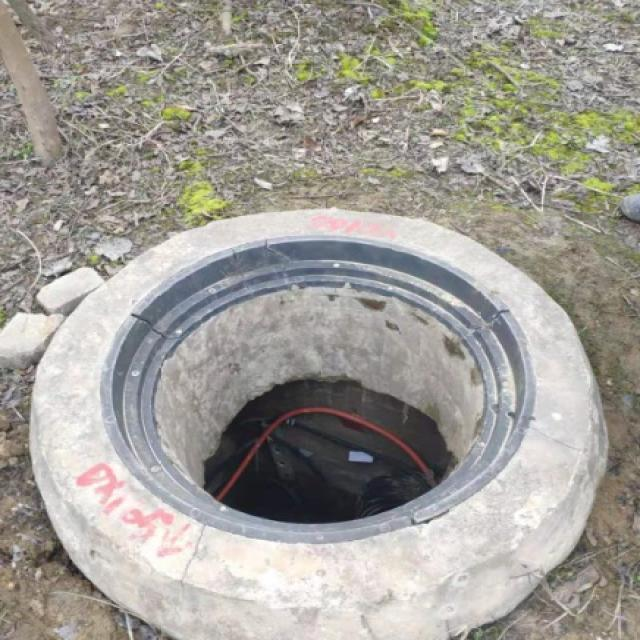Faulty: (84, 228, 532, 545)
